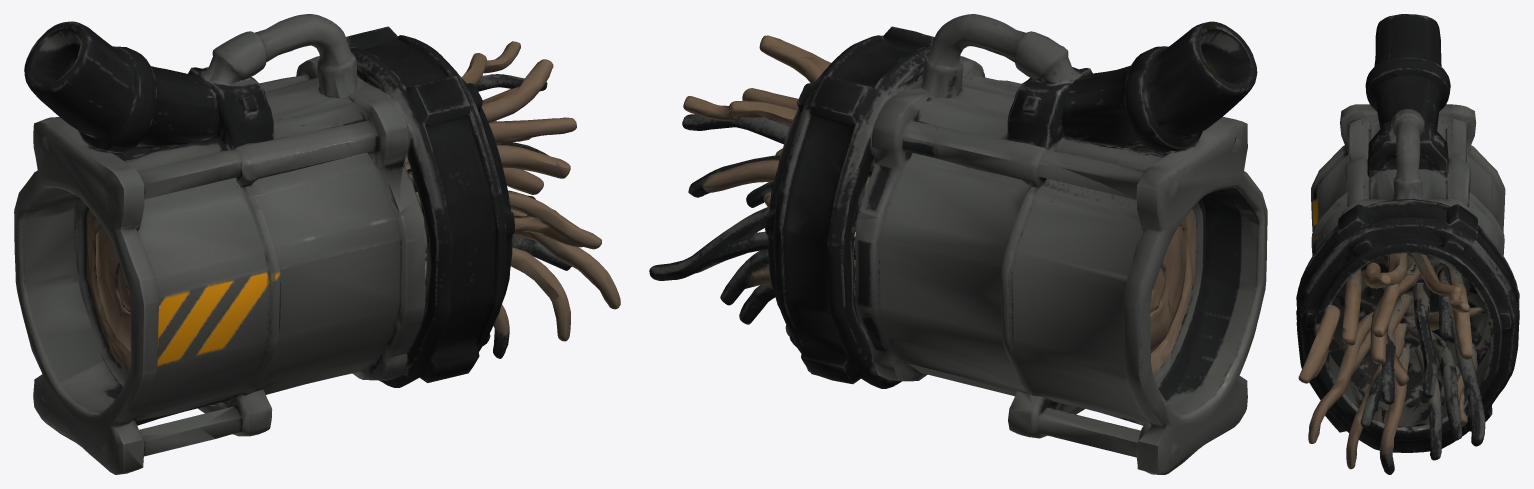
The model's file is 02_power_conduit_left.fbx.
The picture shows the model from 3 angles, left to right: view 1: azimuth 30°, elevation 25°; view 2: azimuth 150°, elevation 25°; view 3: azimuth 270°, elevation 25°; orthographic projection. The views are drawn at different scales.
Parts seen in each view (by area): view 1: 02_power_conduit_left; view 2: 02_power_conduit_left; view 3: 02_power_conduit_left.
Boxes of the visible parts, box(x1,y1,x2,y2) form: 02_power_conduit_left: box(14, 14, 620, 474); 02_power_conduit_left: box(649, 14, 1267, 474); 02_power_conduit_left: box(1296, 14, 1519, 474).
Size of the model in its own units: 2.2 by 1.62 by 1.05.
1 material, 1 textured.
